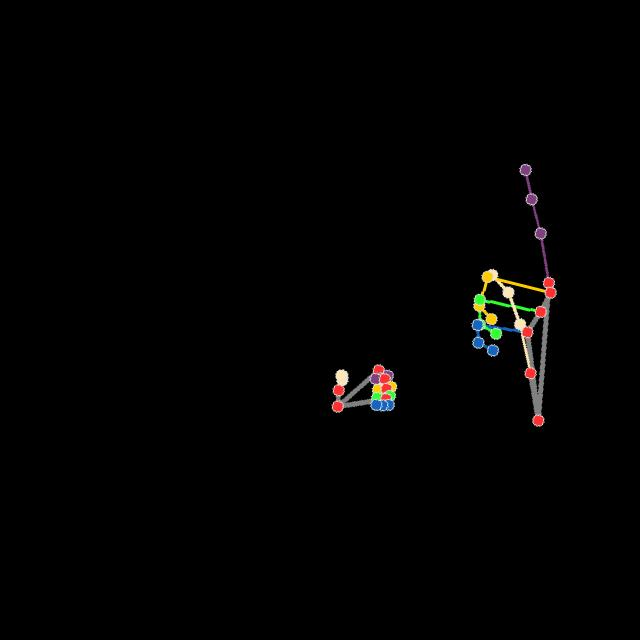gun: (468, 156, 563, 429)
